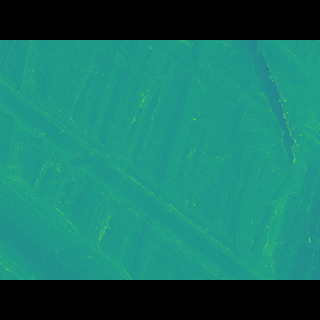Loch: (0, 95, 297, 248), (85, 69, 316, 203)
